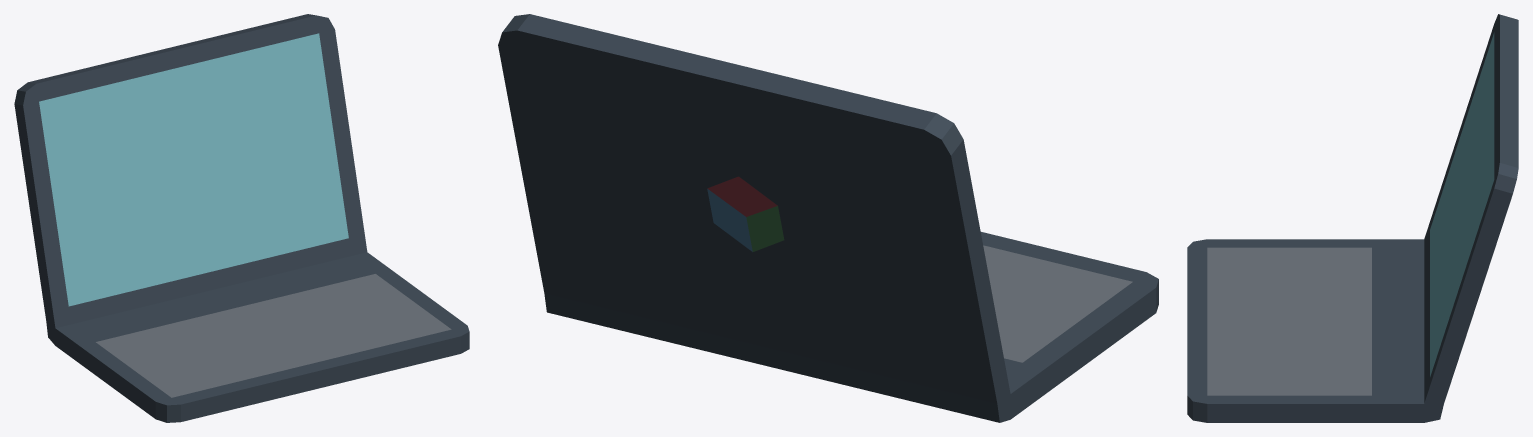
File: Laptop_01.FBX
3 renders of one model, left to right at view 1: azimuth 30°, elevation 25°; view 2: azimuth 150°, elevation 25°; view 3: azimuth 270°, elevation 25°, orthographic. The views are drawn at different scales.
Parts seen in each view (by area): view 1: Laptop_01; view 2: Laptop_01; view 3: Laptop_01.
Part boxes in pixels (x1=…): Laptop_01: x1=14, y1=14, x2=469, y2=422; Laptop_01: x1=498, y1=14, x2=1158, y2=422; Laptop_01: x1=1187, y1=14, x2=1518, y2=422.
Size of the model in its own units: 51.93 by 37.02 by 44.16.
